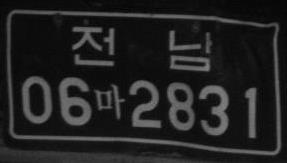0: (19, 75, 53, 125)
1: (236, 85, 265, 139)
2: (128, 79, 162, 129)
3: (198, 83, 229, 136)
6: (57, 75, 92, 127)
8: (166, 81, 196, 131)
마: (93, 83, 125, 119)
전남_D: (71, 24, 212, 71)
